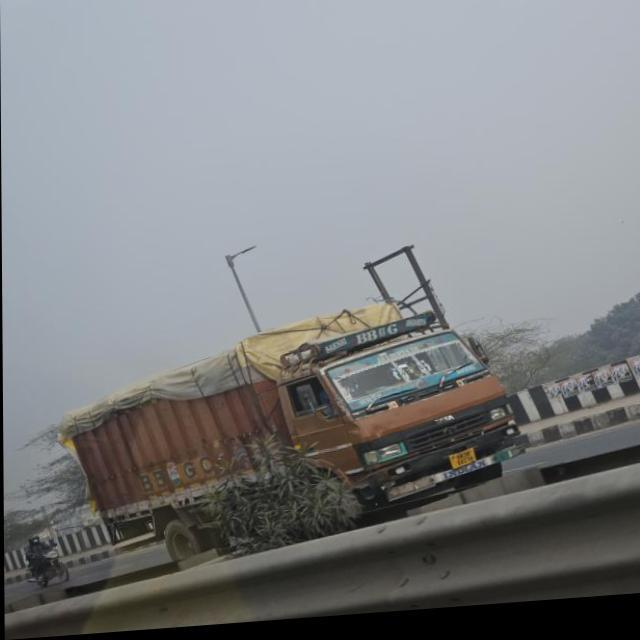covered: (39, 309, 565, 548)
